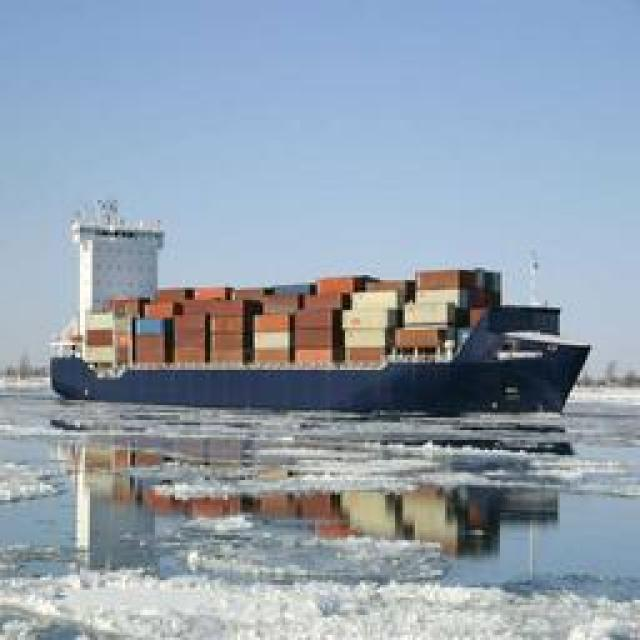ship2: (48, 209, 593, 419)
